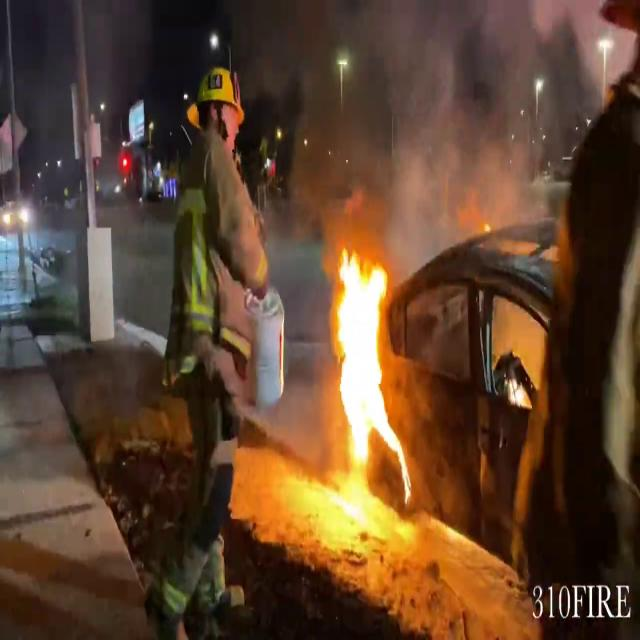Fire: (321, 241, 413, 516)
Smoke: (310, 0, 546, 257)
